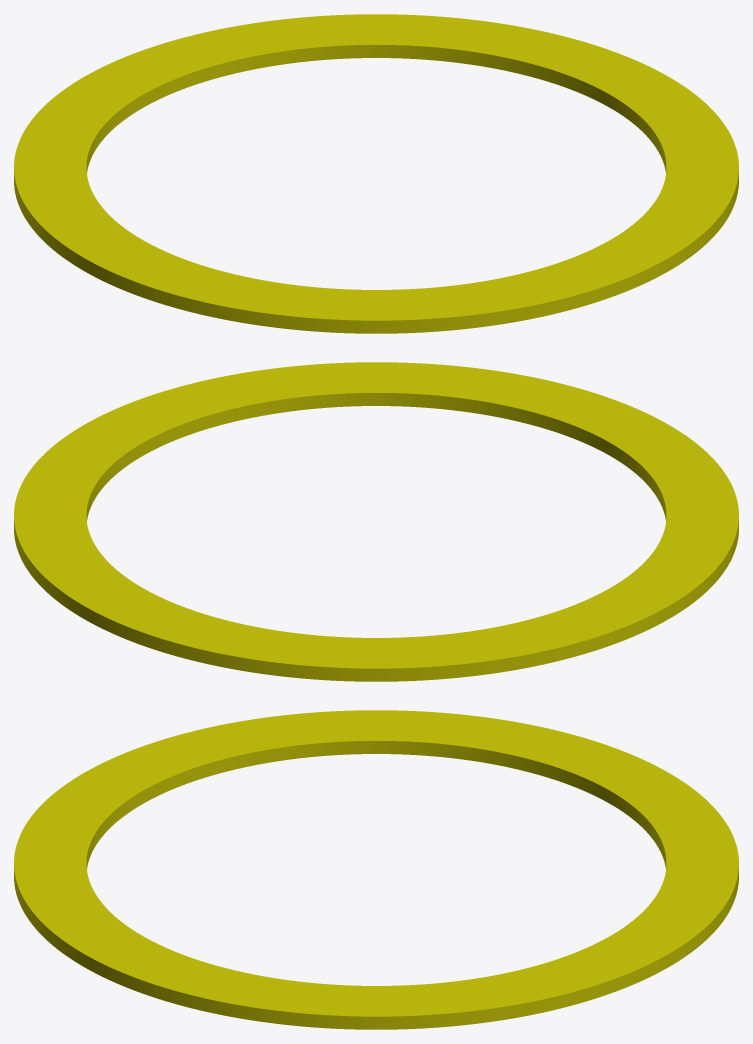
File: 5_4_ring.obj
3 views of the same model, one above another, from view 1: azimuth 30°, elevation 25°; view 2: azimuth 150°, elevation 25°; view 3: azimuth 270°, elevation 25° (orthographic).
Parts seen in each view (by area): view 1: 5_4_5_4.001; view 2: 5_4_5_4.001; view 3: 5_4_5_4.001.
Boxes of the visible parts, x1,y1,x2,y2 form: 5_4_5_4.001: (14, 14, 738, 333); 5_4_5_4.001: (14, 362, 738, 681); 5_4_5_4.001: (14, 710, 738, 1029).
Size of the model in its own units: 5 by 0.1 by 5.
